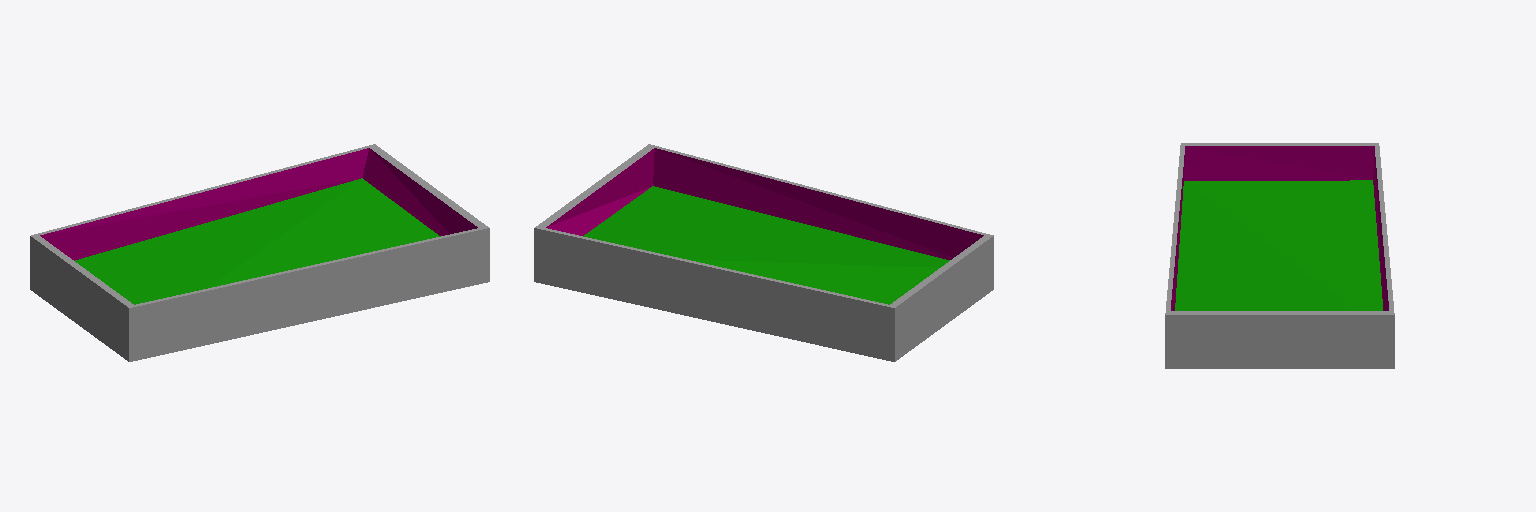
File: straighttable.obj
The picture shows the model from 3 angles: view 1: azimuth 30°, elevation 25°; view 2: azimuth 150°, elevation 25°; view 3: azimuth 270°, elevation 25°; orthographic projection.
Visible parts, largest first — view 1: Cube.001; view 2: Cube.001; view 3: Cube.001.
Part boxes in pixels (x1,y1,x2,y2): Cube.001: (30,144,489,361); Cube.001: (534,144,993,361); Cube.001: (1165,143,1394,368).
Size of the model in its own units: 13.63 by 2 by 7.69.